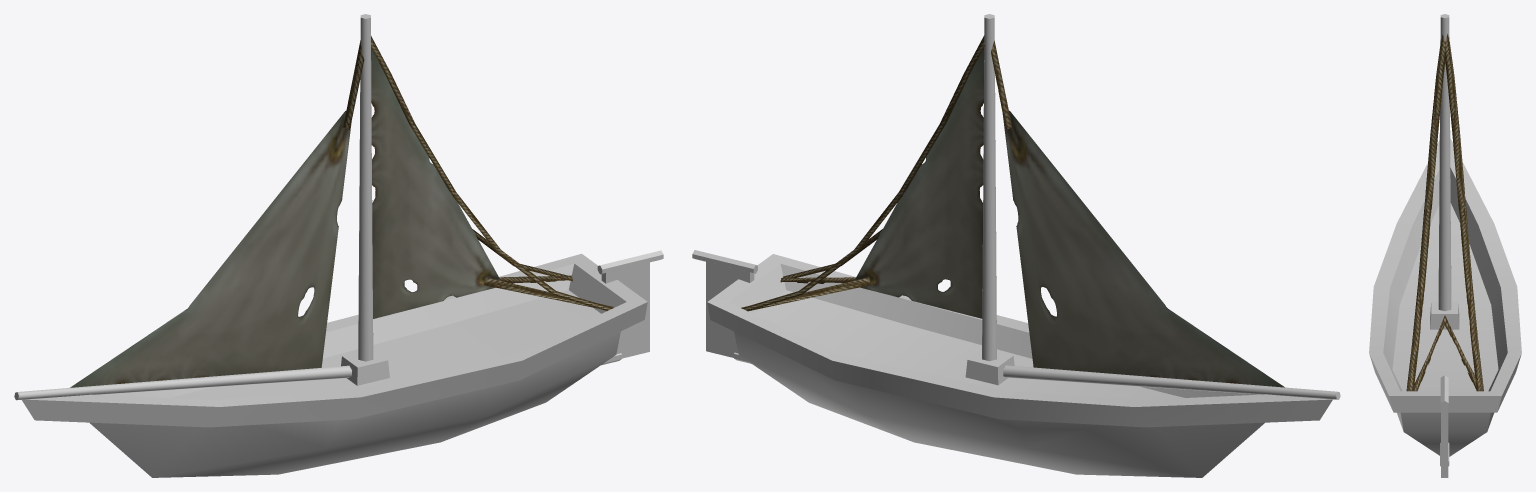
The model's file is common_city_xiaofanchuan.FBX.
The picture shows the model from 3 angles, left to right: view 1: azimuth 30°, elevation 25°; view 2: azimuth 150°, elevation 25°; view 3: azimuth 270°, elevation 25°; orthographic projection. The views are drawn at different scales.
Visible parts, largest first — view 1: common_city_xiaofanchuan; view 2: common_city_xiaofanchuan; view 3: common_city_xiaofanchuan.
Boxes of the visible parts, bbox=[...] form: common_city_xiaofanchuan: bbox=[14, 14, 663, 477]; common_city_xiaofanchuan: bbox=[692, 14, 1340, 477]; common_city_xiaofanchuan: bbox=[1369, 14, 1521, 477].
Bounding box in the file's own units: 18.33 × 4.4 × 12.07.
